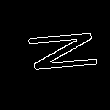N_E: (10, 31, 100, 79)
